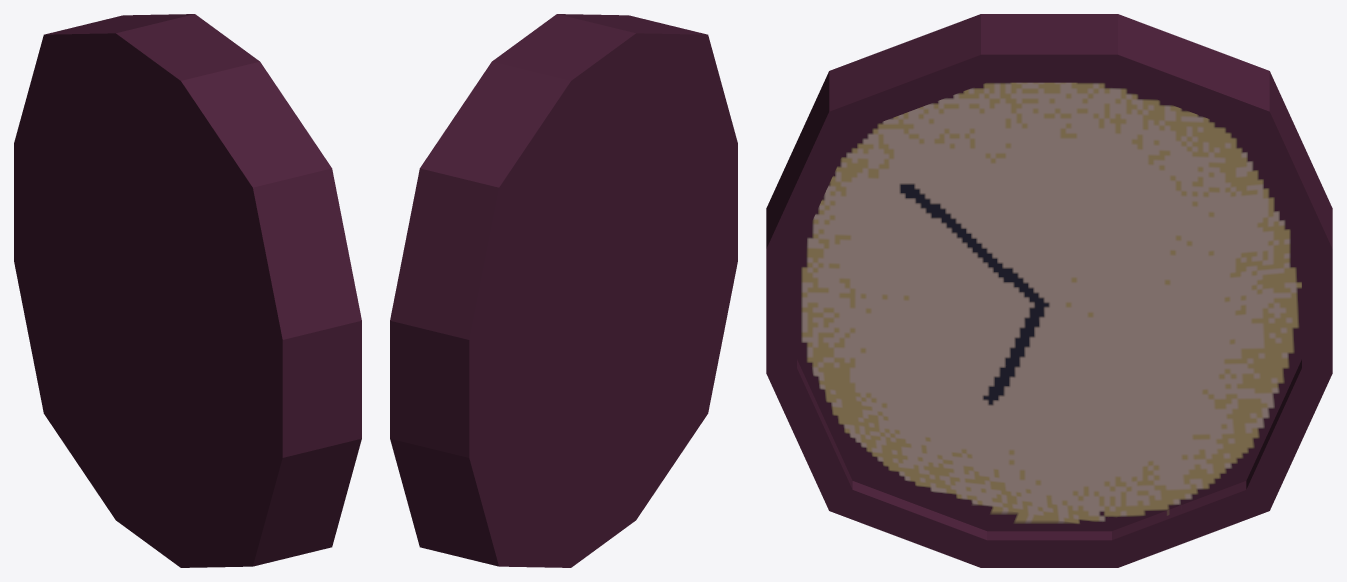
File: horloge.fbx
3 views of the same model, side by side, from view 1: azimuth 30°, elevation 25°; view 2: azimuth 150°, elevation 25°; view 3: azimuth 270°, elevation 25° (orthographic). The views are drawn at different scales.
Visible parts, largest first — view 1: Cube.008; view 2: Cube.008; view 3: Cube.008.
Boxes of the visible parts, x1,y1,x2,y2 form: Cube.008: [14, 14, 361, 567]; Cube.008: [390, 14, 737, 567]; Cube.008: [766, 14, 1332, 567].
Size of the model in its own units: 34.07 by 200 by 200.
